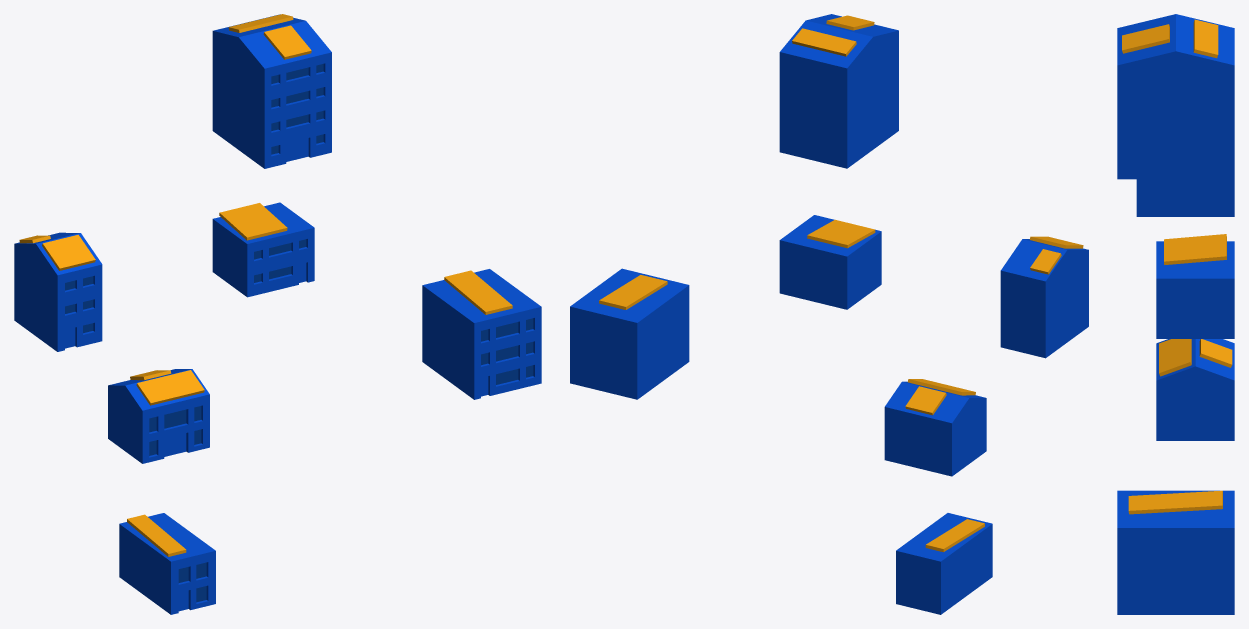
File: BinaGrup6.gltf
3 renders of one model, left to right at view 1: azimuth 30°, elevation 25°; view 2: azimuth 150°, elevation 25°; view 3: azimuth 270°, elevation 25°, orthographic. The views are drawn at different scales.
Parts seen in each view (by area): view 1: Building_049.003, Building_065.003, Building_036.003, Building_045.003, Building_050.003, Building_044.003, Building_050_RoofCap_0.001, Building_044_RoofCap_0.001, Building_065_RoofCap_0.001, Building_065.005, Building_036_RoofCap_0.001, Building_049.005 (+3 smaller); view 2: Building_049.003, Building_065.003, Building_036.003, Building_044.003, Building_050.003, Building_045.003, Building_065_RoofCap_0.001, Building_050_RoofCap_0.001, Building_049_RoofCap_1.001, Building_045_RoofCap_0.001, Building_044_RoofCap_1.001; view 3: Building_049.003, Building_065.003, Building_044.003, Building_050.003, Building_036.003, Building_065_RoofCap_0.001, Building_050_RoofCap_0.001, Building_044_RoofCap_0.001, Building_049_RoofCap_0.001, Building_049_RoofCap_1.001, Building_044_RoofCap_1.001.
Boxes of the visible parts, x1,y1,x2,y2 form: Building_049.003: [212, 14, 331, 168]; Building_065.003: [422, 269, 541, 399]; Building_036.003: [14, 232, 102, 351]; Building_045.003: [119, 513, 215, 614]; Building_050.003: [212, 202, 314, 297]; Building_044.003: [108, 369, 209, 463]; Building_050_RoofCap_0.001: [219, 203, 287, 240]; Building_044_RoofCap_0.001: [136, 370, 204, 405]; Building_065_RoofCap_0.001: [444, 270, 512, 314]; Building_065.005: [481, 318, 533, 384]; Building_036_RoofCap_0.001: [42, 234, 95, 270]; Building_049.005: [271, 64, 323, 154]; Building_049.003: [779, 14, 898, 168]; Building_065.003: [570, 268, 689, 399]; Building_036.003: [1000, 239, 1088, 358]; Building_044.003: [884, 381, 986, 476]; Building_050.003: [779, 215, 881, 309]; Building_045.003: [896, 513, 992, 614]; Building_065_RoofCap_0.001: [599, 275, 667, 309]; Building_050_RoofCap_0.001: [807, 219, 875, 248]; Building_049_RoofCap_1.001: [792, 28, 856, 56]; Building_045_RoofCap_0.001: [925, 519, 984, 552]; Building_044_RoofCap_1.001: [905, 386, 946, 415]; Building_049.003: [1117, 14, 1234, 179]; Building_065.003: [1117, 490, 1234, 614]; Building_044.003: [1156, 339, 1234, 440]; Building_050.003: [1156, 241, 1234, 338]; Building_036.003: [1136, 179, 1234, 216]; Building_065_RoofCap_0.001: [1128, 490, 1222, 514]; Building_050_RoofCap_0.001: [1164, 234, 1226, 264]; Building_044_RoofCap_0.001: [1159, 339, 1191, 376]; Building_049_RoofCap_0.001: [1122, 24, 1169, 53]; Building_049_RoofCap_1.001: [1193, 19, 1218, 58]; Building_044_RoofCap_1.001: [1199, 339, 1232, 367].
Size of the model in its own units: 0.3451 by 0.3731 by 0.0652.
